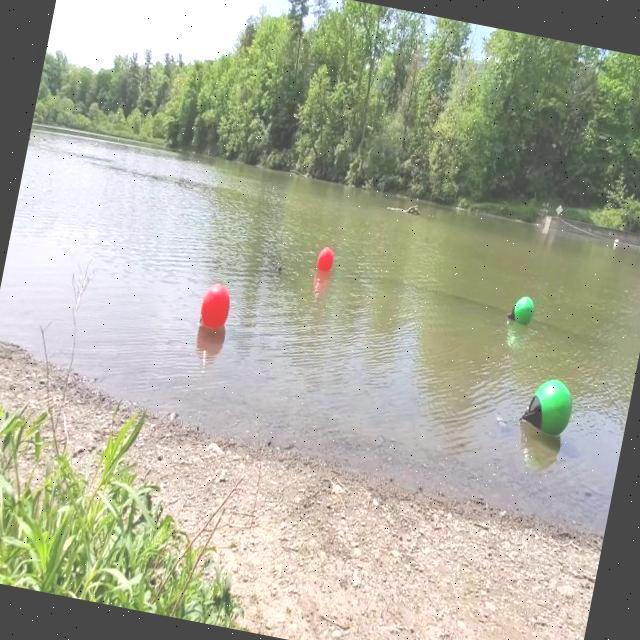buoy: (520, 375, 576, 439), (197, 282, 234, 334), (508, 296, 536, 327), (316, 247, 336, 276)
